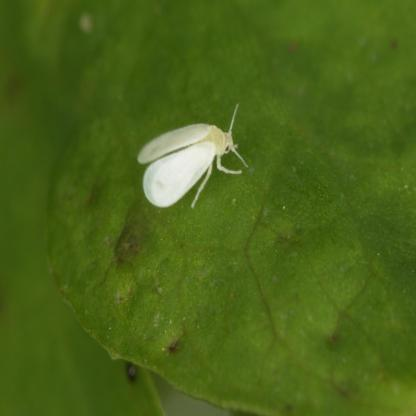whitefly: (139, 122, 232, 208)
